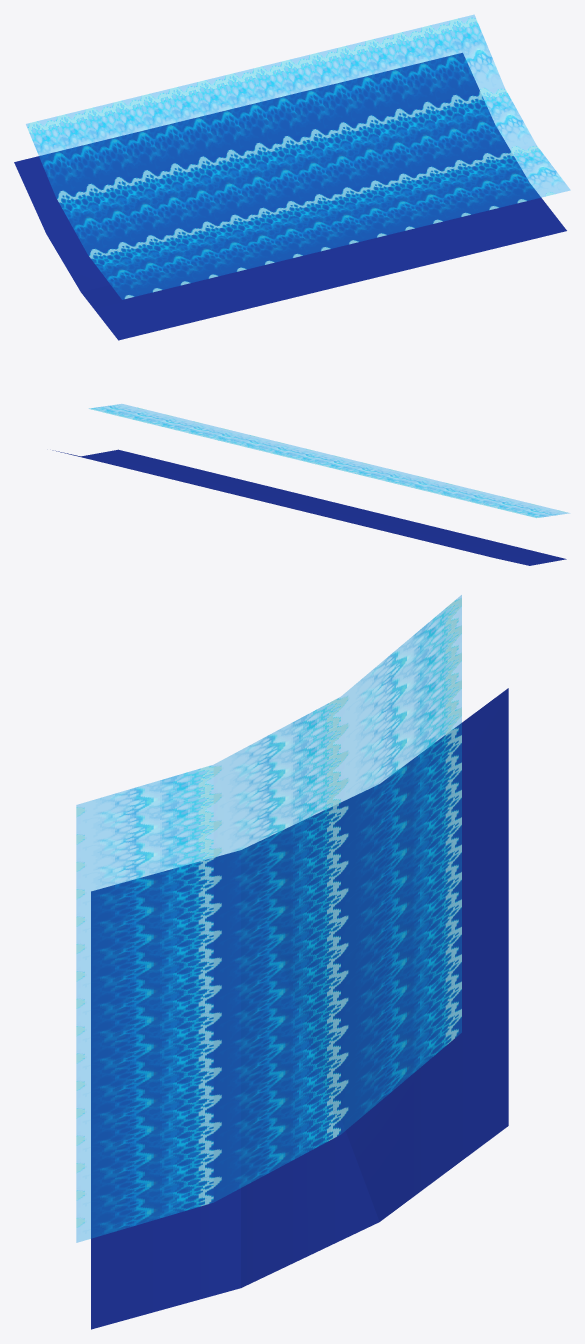
The model's file is c_grd_o_1.001.glb.
3 renders of one model, top to bottom at view 1: azimuth 30°, elevation 25°; view 2: azimuth 150°, elevation 25°; view 3: azimuth 270°, elevation 25°, orthographic. The views are drawn at different scales.
Parts seen in each view (by area): view 1: c_grd_o_1.001; view 2: c_grd_o_1.001; view 3: c_grd_o_1.001.
Boxes of the visible parts, <box> form: c_grd_o_1.001: <box>14,15,570,340</box>; c_grd_o_1.001: <box>52,404,569,565</box>; c_grd_o_1.001: <box>76,595,508,1329</box>.
Size of the model in its own units: 32 by 10.12 by 13.35.
2 materials, 2 textured.
